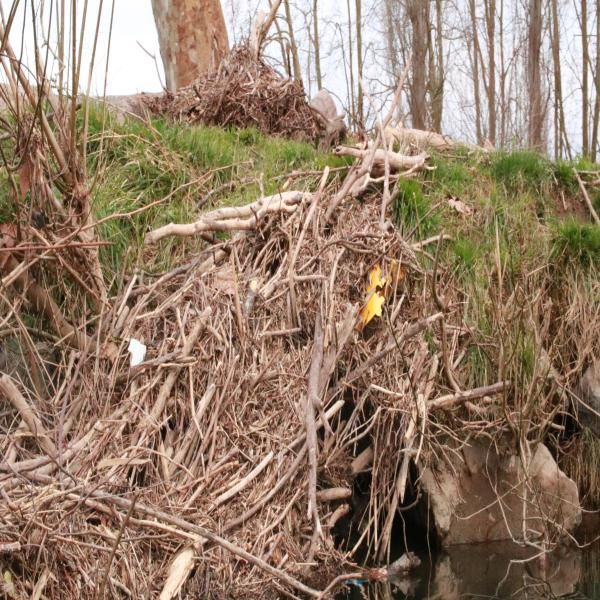others: (354, 254, 411, 332), (125, 336, 147, 364), (345, 576, 369, 584)
